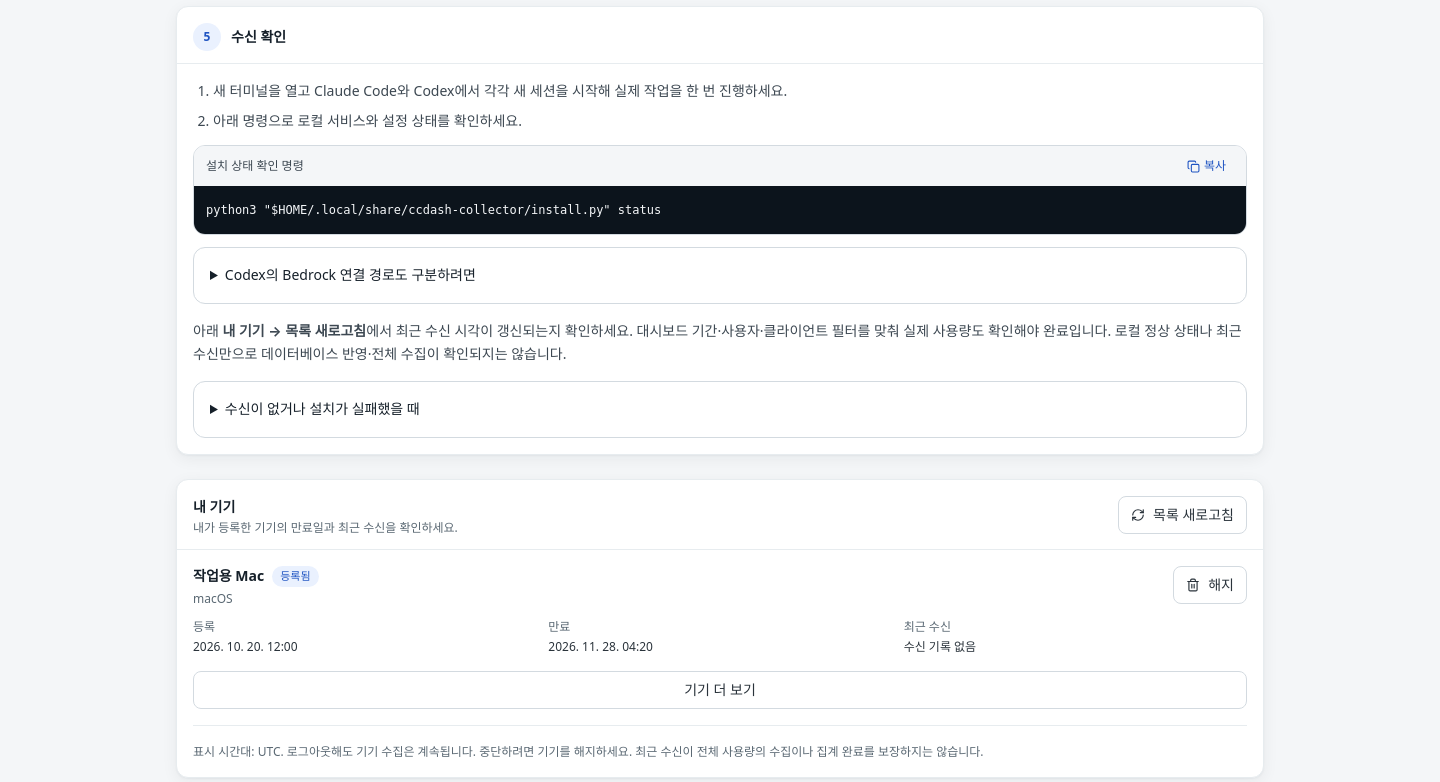
Scenario: a failed next page can retry without losing already loaded devices
(page scrolled)
Click the button "기기 더 보기".
click(720, 690)  # box left=193, top=670, right=1247, bottom=708
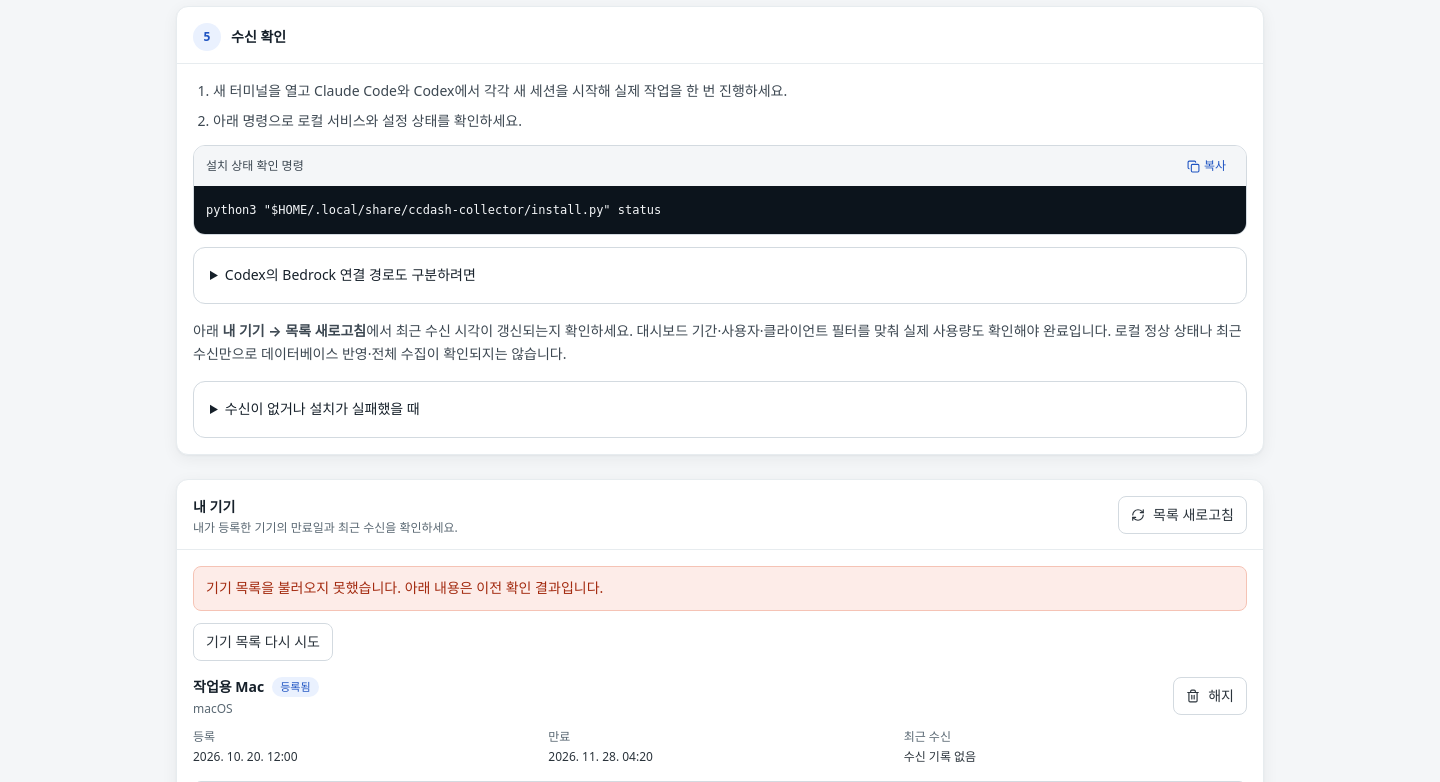
Now the message "기기 목록을 불러오지 못했습니다. 아래 내용은 이전 확인 결과입니다." is shown, box left=193, top=566, right=1247, bottom=611
Click the button "기기 목록 다시 시도".
click(263, 642)  # box left=193, top=623, right=333, bottom=661
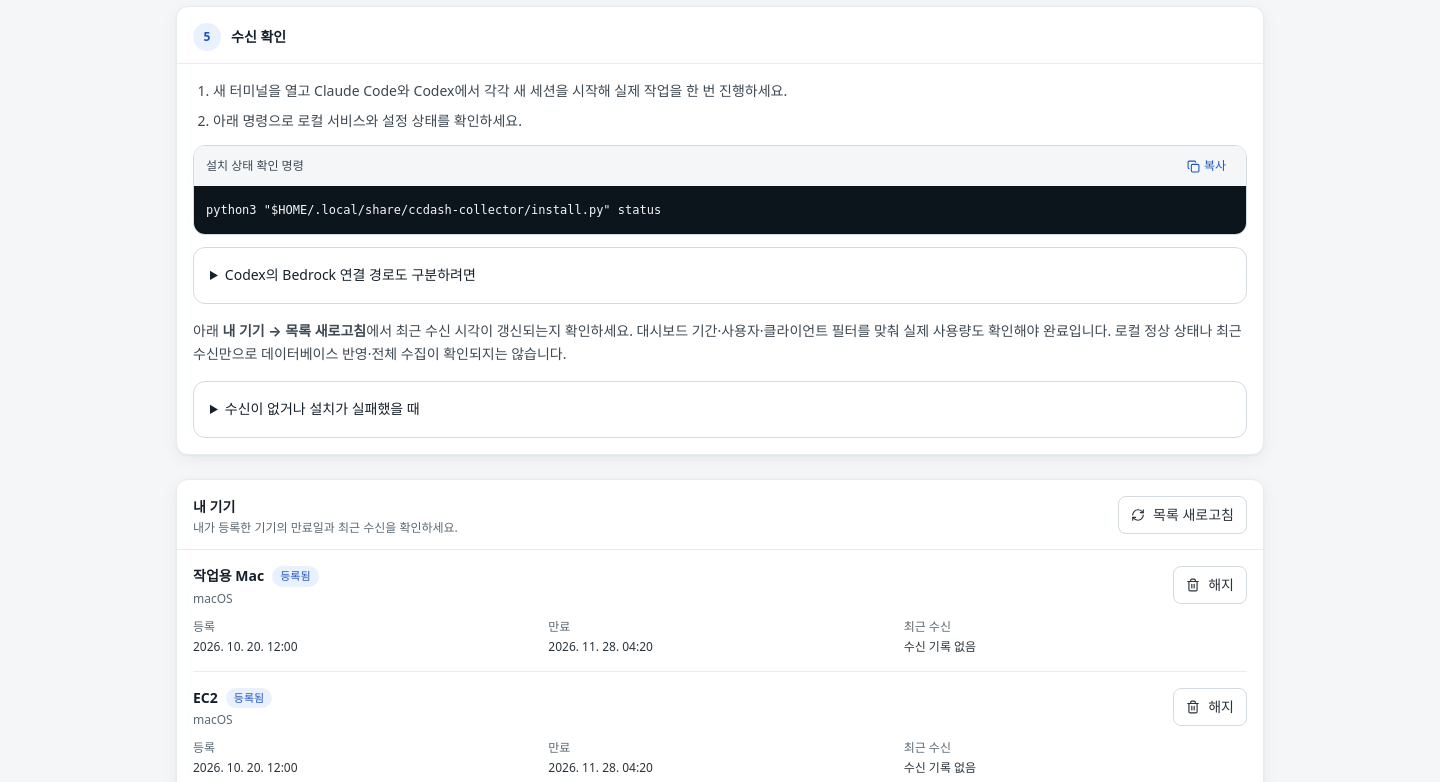
Expected: the heading "작업용 Mac" is shown, left=193, top=566, right=264, bottom=586
Now the heading "EC2" is shown, box left=193, top=688, right=218, bottom=708
